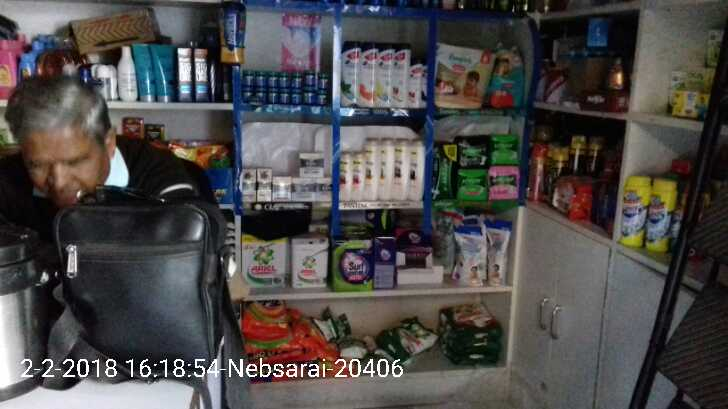vicks: (243, 63, 331, 107)
